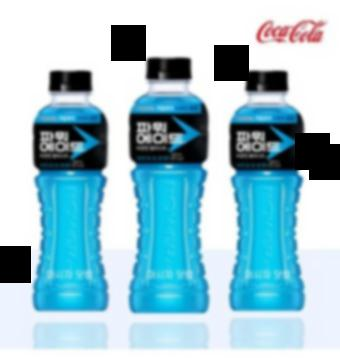powerade_mountainblast: (123, 53, 216, 319), (26, 58, 116, 316), (228, 63, 308, 312)
